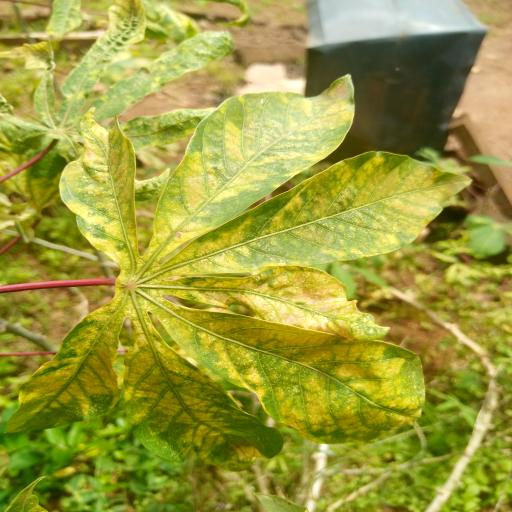Cassava_Mosaic: (4, 72, 472, 472), (5, 2, 242, 212)
